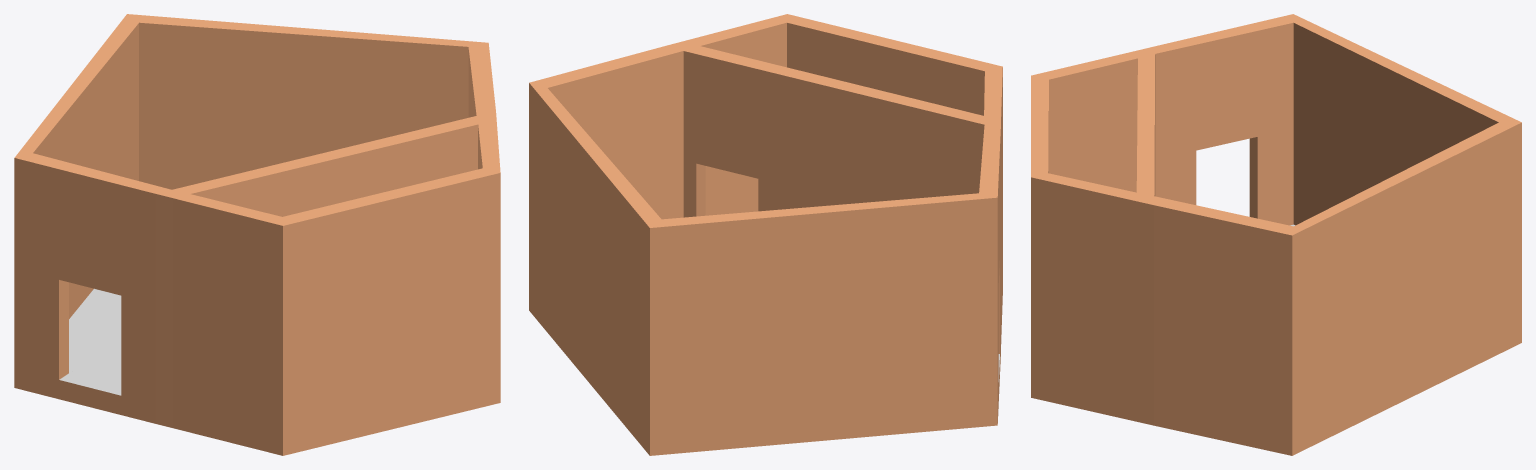
Rendered from tienda.fbx.
3 views of the same model, side by side, from view 1: azimuth 30°, elevation 25°; view 2: azimuth 150°, elevation 25°; view 3: azimuth 270°, elevation 25° (orthographic). The views are drawn at different scales.
Visible parts, largest first — view 1: Tienda/seguridad, Tienda/seguridad.001; view 2: Tienda/seguridad; view 3: Tienda/seguridad.
Part boxes in pixels (left/top/right/bottom): Tienda/seguridad: left=14, top=14, right=500, bottom=455; Tienda/seguridad.001: left=59, top=288, right=121, bottom=395; Tienda/seguridad: left=529, top=14, right=1002, bottom=455; Tienda/seguridad: left=1031, top=14, right=1521, bottom=455.
Bounding box in the file's own units: 5218 × 2422 × 4888.
